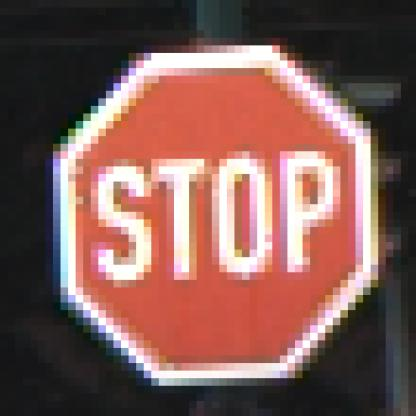stop: (40, 31, 394, 389)
